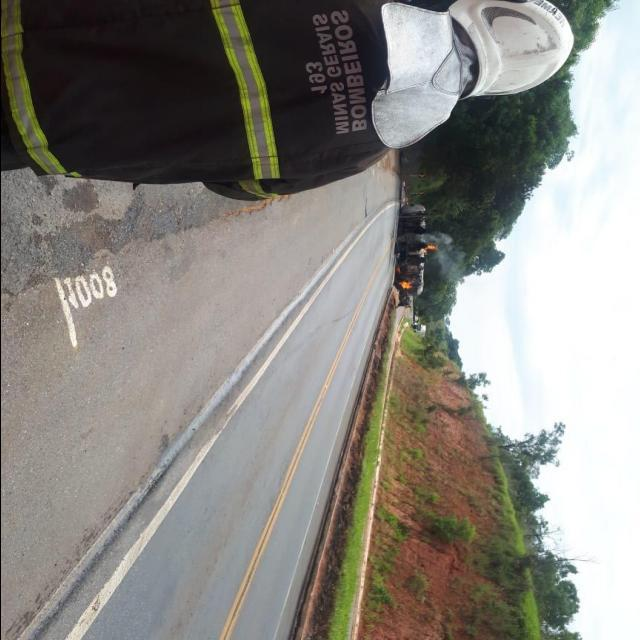Fire: (396, 280, 412, 292), (427, 244, 438, 251)
